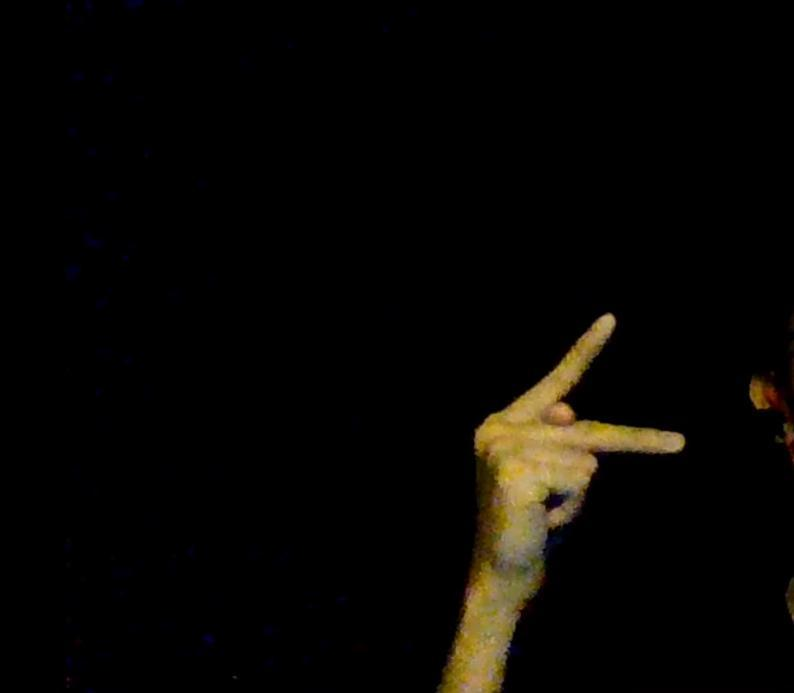k: (462, 313, 689, 595)
